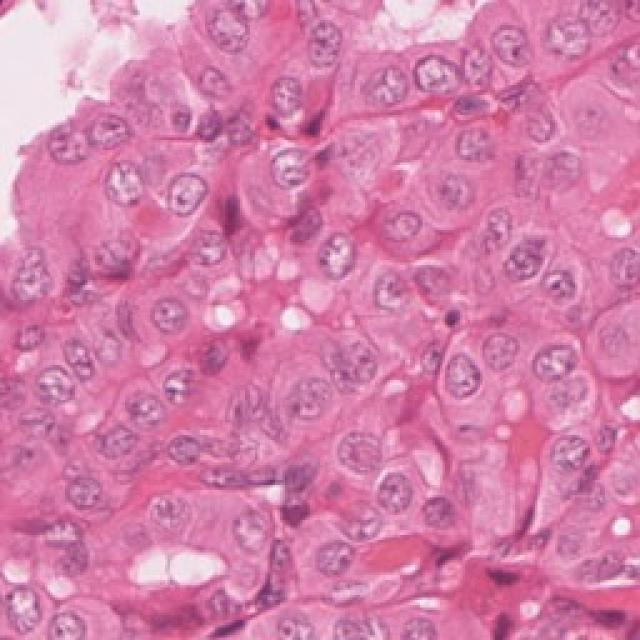abnormal: (260, 348, 355, 435), (418, 320, 497, 415), (105, 370, 185, 453), (320, 425, 403, 503), (255, 137, 342, 207), (300, 220, 378, 293), (536, 0, 616, 70), (523, 322, 592, 400), (290, 517, 367, 585), (147, 160, 220, 230), (369, 253, 434, 330), (140, 296, 210, 356), (411, 45, 466, 120), (167, 215, 238, 273), (88, 150, 148, 218), (10, 245, 67, 315), (478, 17, 538, 82), (295, 15, 352, 82), (435, 120, 492, 183), (492, 234, 552, 289)
